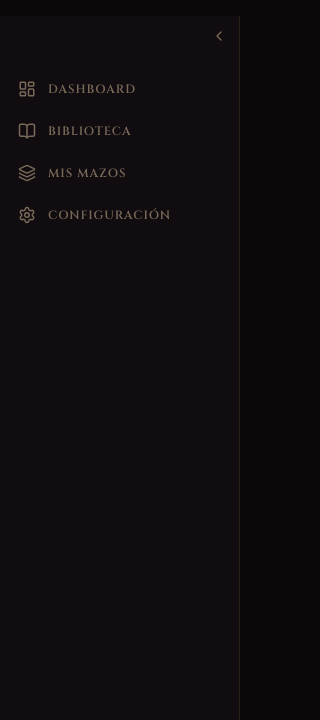
Test case: Sidebar › colapsa al pulsar el botón
This screenshot has width=320, height=720.
Click the button named "Colapsar sidebar" at [219, 36], box [199, 16, 239, 56]
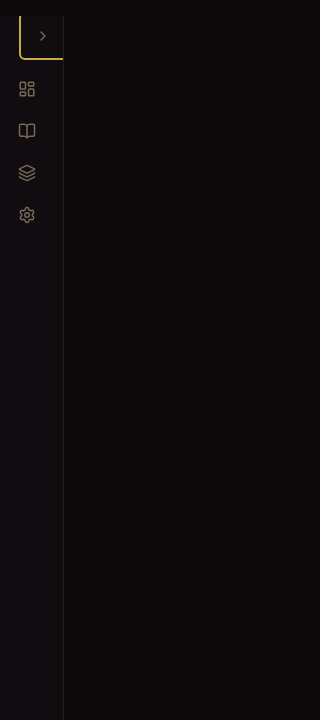
expect the element with class "sidebar-deckora--collapsed" is shown: met, box [0, 16, 64, 719]
